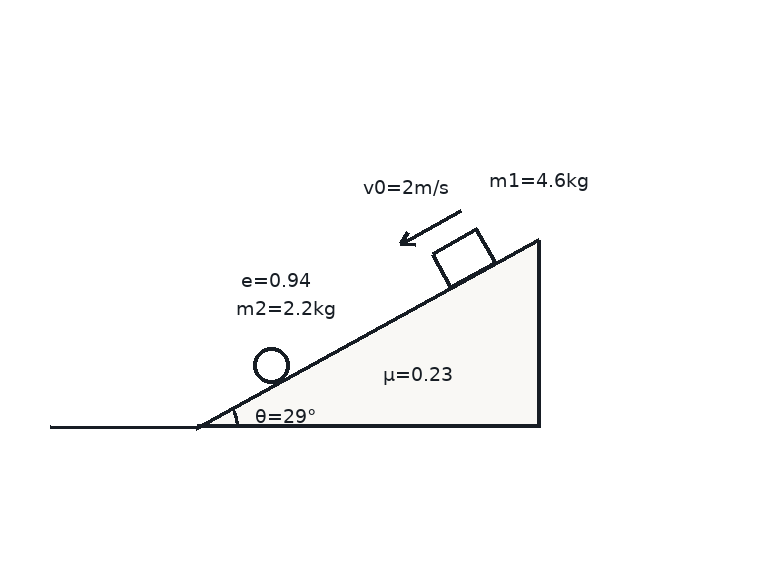ball: (251, 345, 291, 385)
block: (430, 227, 497, 289)
ramp: (195, 236, 540, 429)
